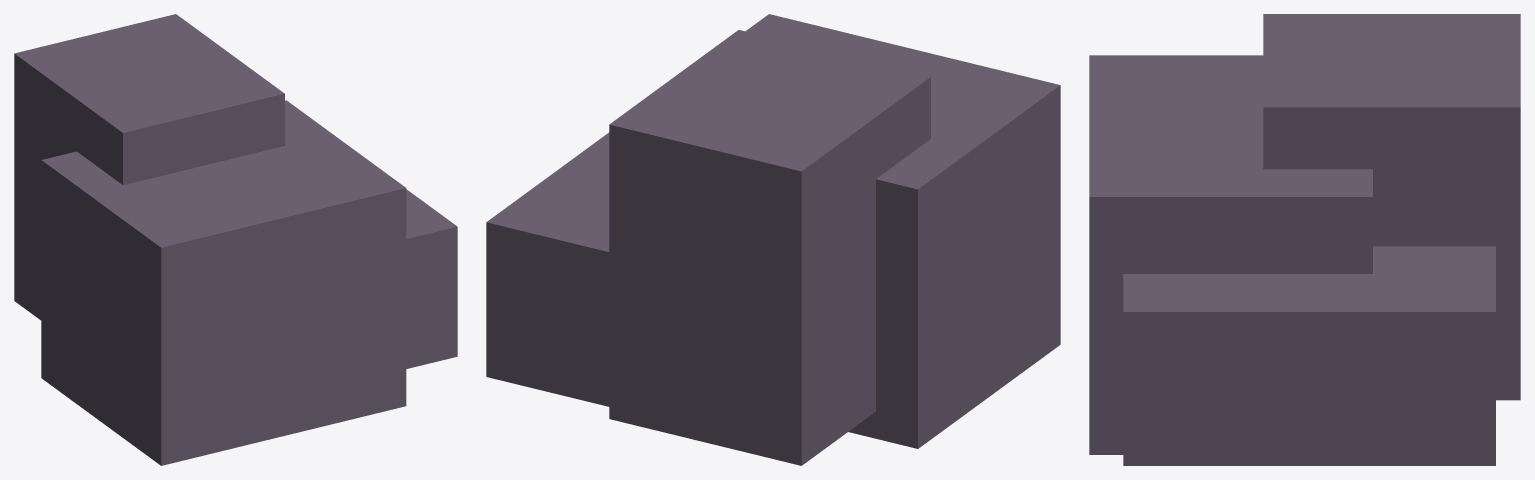
The model's file is Rock2.glb.
3 views of the same model, side by side, from view 1: azimuth 30°, elevation 25°; view 2: azimuth 150°, elevation 25°; view 3: azimuth 270°, elevation 25° (orthographic). The views are drawn at different scales.
Visible parts, largest first — view 1: Cube.016; view 2: Cube.016; view 3: Cube.016.
Boxes of the visible parts, <box> form: Cube.016: <box>14,14,457,465</box>; Cube.016: <box>486,14,1060,465</box>; Cube.016: <box>1089,14,1520,465</box>.
Size of the model in its own units: 1.71 by 1.42 by 1.73.
Materials: 1 (1 with a texture image).
